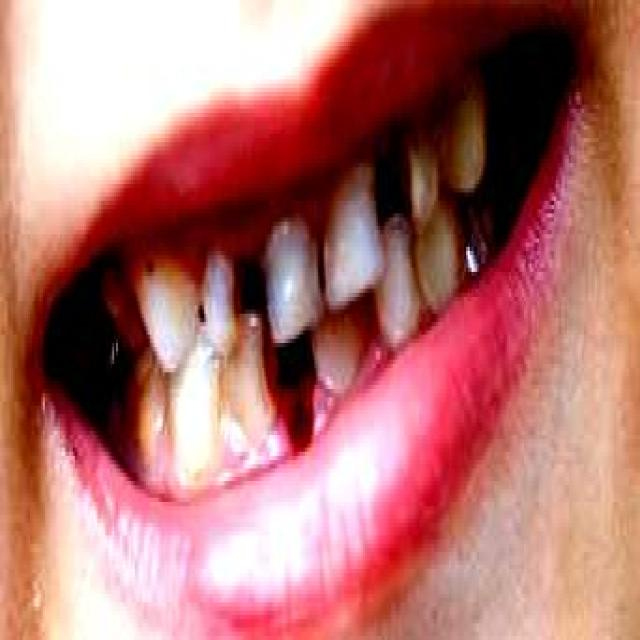caries: (246, 316, 285, 412)
